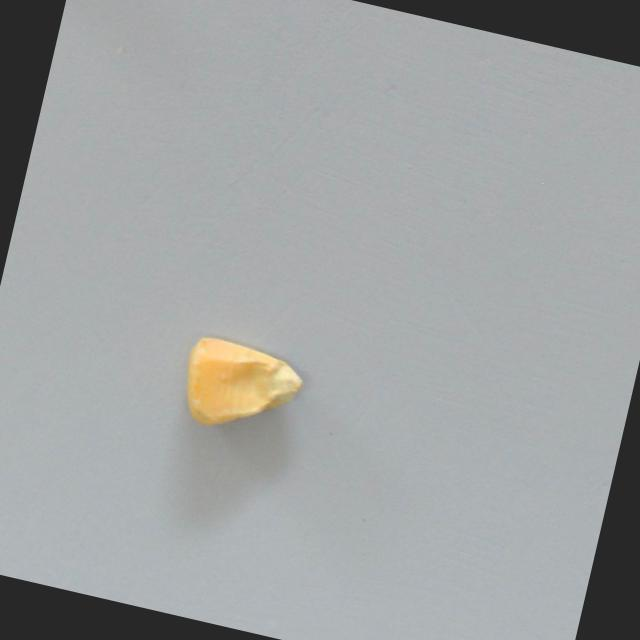entero: (165, 319, 321, 455)
